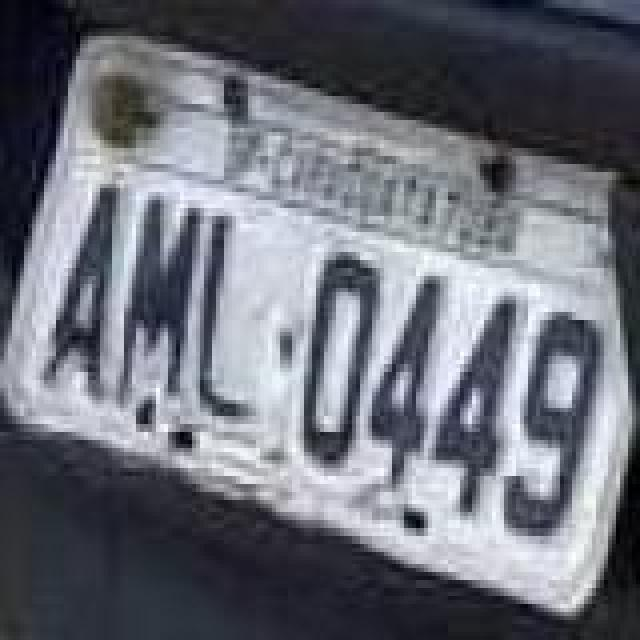4: (428, 296, 524, 520), (364, 272, 444, 496)
9: (498, 304, 606, 536)
A: (36, 176, 124, 400)
L: (192, 208, 256, 424)
M: (116, 196, 204, 412)
O: (300, 252, 388, 468)
